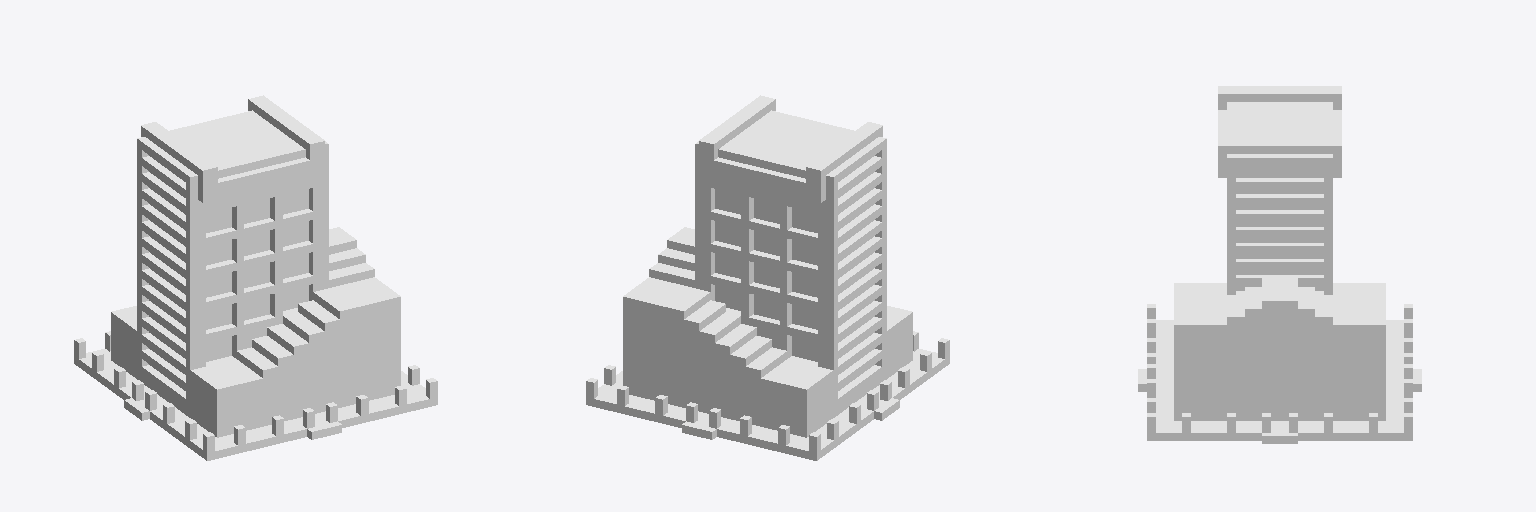
Rendered from office8.obj.
The picture shows the model from 3 angles: view 1: azimuth 30°, elevation 25°; view 2: azimuth 150°, elevation 25°; view 3: azimuth 270°, elevation 25°; orthographic projection.
Visible parts, largest first — view 1: object 1; view 2: object 1; view 3: object 1.
Part boxes in pixels (bbox=[...]): object 1: bbox=[74, 95, 437, 460]; object 1: bbox=[586, 95, 949, 460]; object 1: bbox=[1138, 86, 1421, 443].
Size of the model in its own units: 3.2 by 3.2 by 3.2.